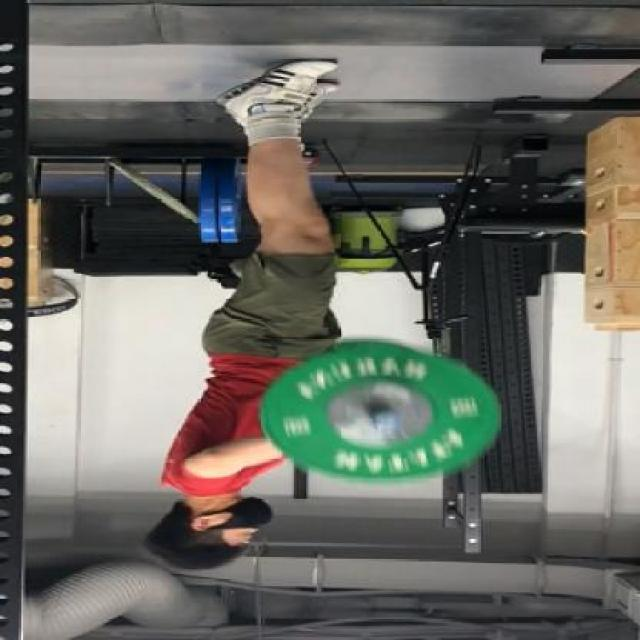Barbell: (368, 408, 407, 434)
